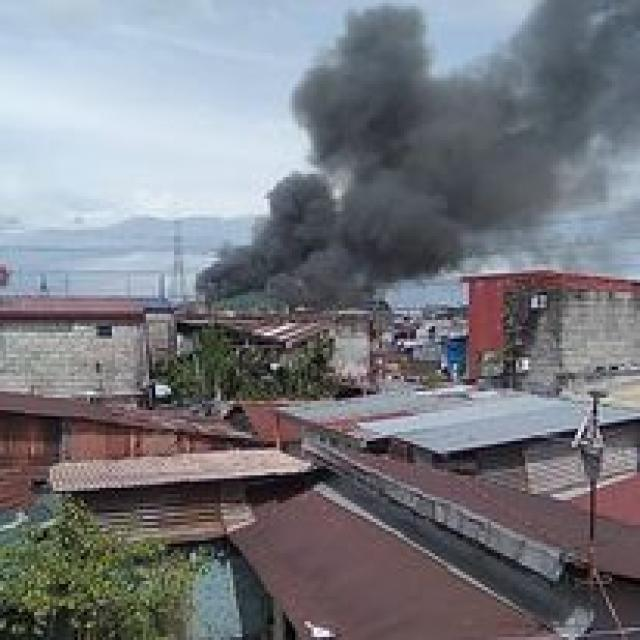Smoke: (346, 15, 640, 172), (286, 82, 482, 255), (206, 220, 422, 310)
